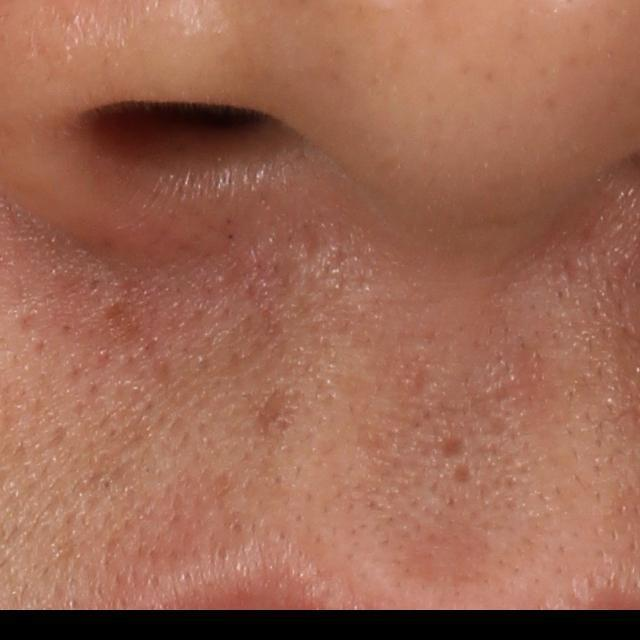atrophic_scar: (252, 377, 297, 431), (446, 461, 478, 493), (440, 436, 473, 465)
